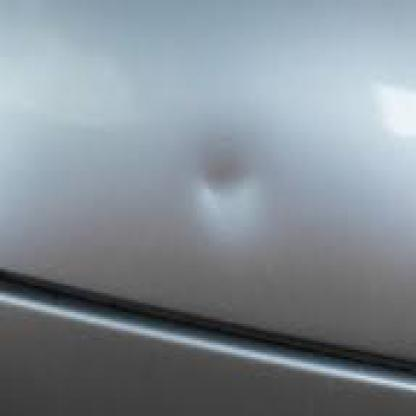dent: (194, 138, 260, 226)
